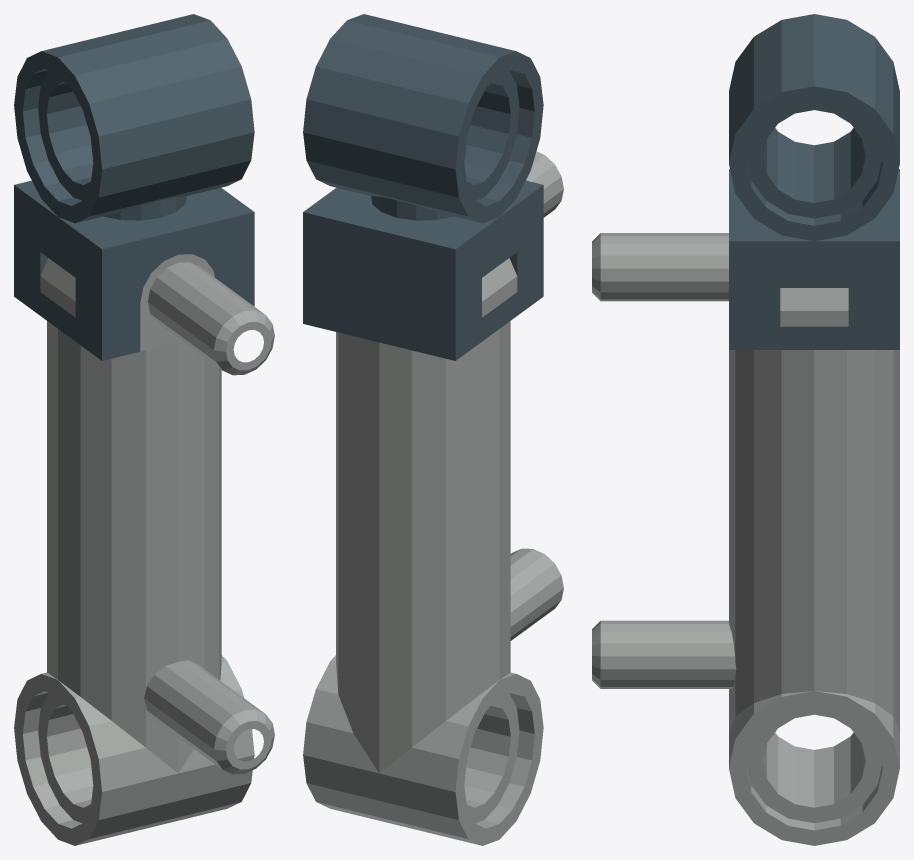
3 views of the same model, side by side, from view 1: azimuth 30°, elevation 25°; view 2: azimuth 150°, elevation 25°; view 3: azimuth 270°, elevation 25° (orthographic). The views are drawn at different scales.
Visible parts, largest first — view 1: world; view 2: world; view 3: world.
Boxes of the visible parts, <box> form: world: <box>14,14,274,845</box>; world: <box>303,14,563,845</box>; world: <box>592,14,899,845</box>.
Size of the model in its own units: 0.008 by 0.0392 by 0.0144.
